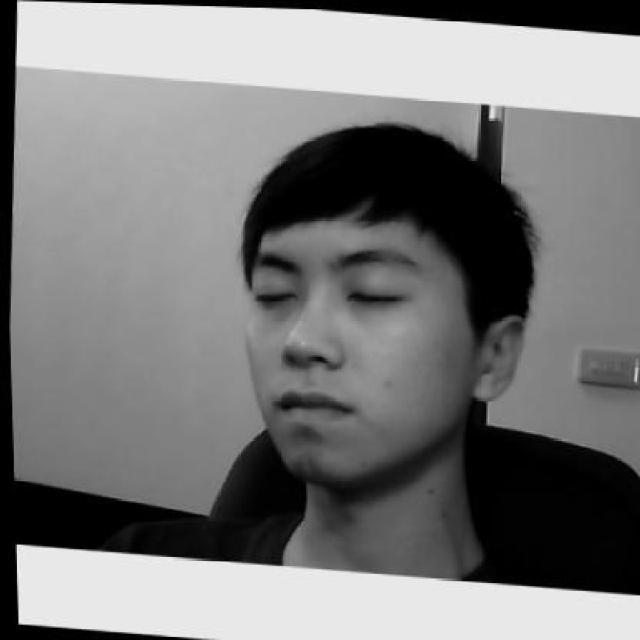inattentif: (226, 110, 540, 492)
